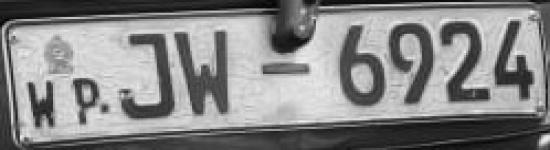-: (256, 58, 316, 81)
2: (436, 12, 493, 109)
4: (493, 12, 537, 105)
6: (337, 18, 389, 111)
9: (386, 19, 435, 109)
J: (118, 28, 177, 123)
P: (70, 74, 100, 127)
W: (174, 28, 236, 122), (25, 77, 59, 132)
